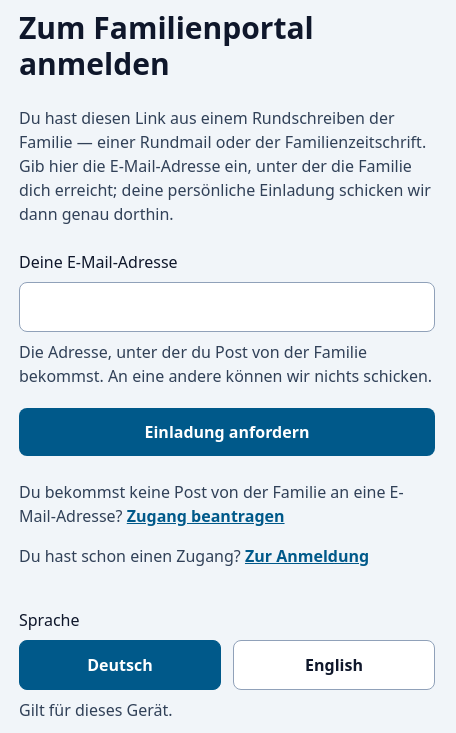
Scenario: choosing the language on the way in › saves nothing to an account, because there is none
This screenshot has width=456, height=733.
Click the button "English" at (334, 665), box left=233, top=640, right=435, bottom=690
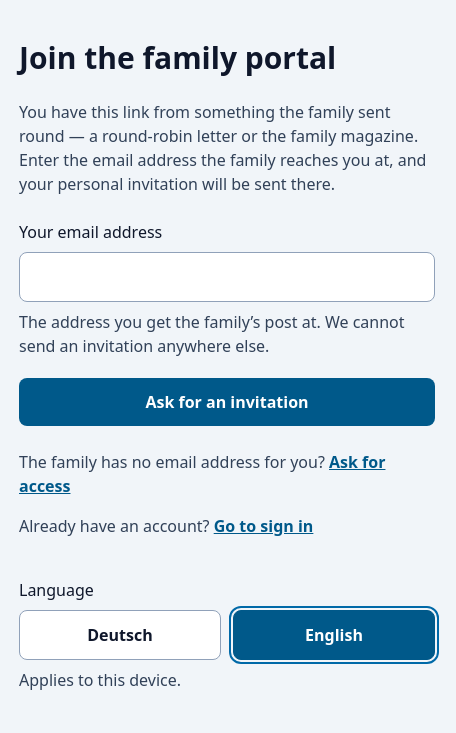
Check: the heading "Join the family portal" is shown, box left=19, top=37, right=336, bottom=78
